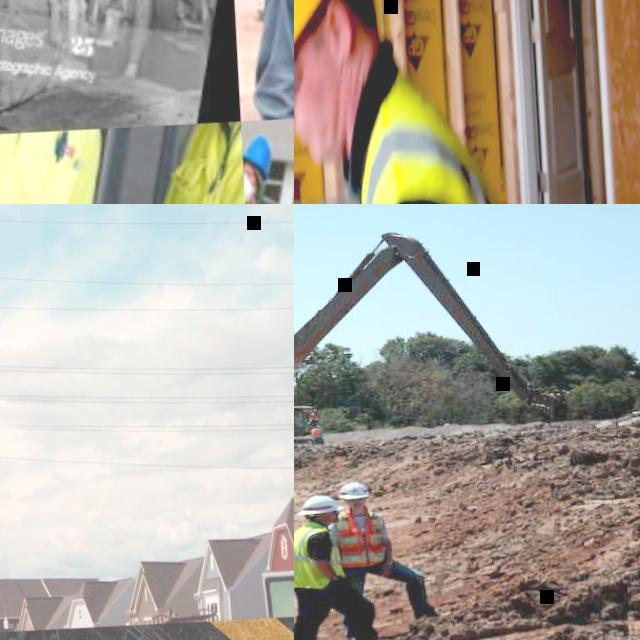helmet: (244, 135, 274, 178), (296, 494, 344, 516), (338, 482, 369, 500), (316, 424, 322, 428), (313, 408, 318, 411)
vest: (355, 70, 520, 204), (141, 120, 257, 204), (0, 126, 107, 204), (294, 520, 347, 592), (335, 512, 389, 568), (312, 428, 322, 437), (310, 412, 320, 419)
